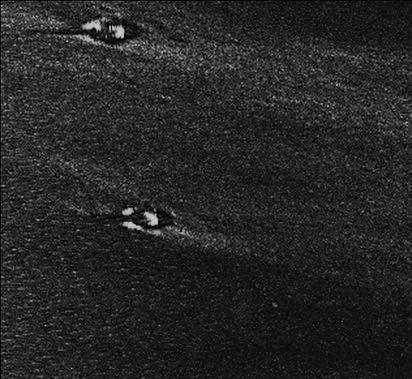mine: (27, 17, 143, 43), (79, 206, 172, 229)
